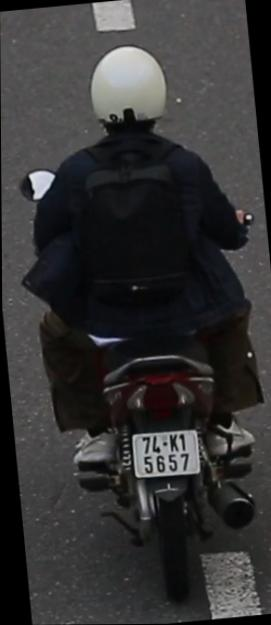LP: (122, 420, 207, 494)
helmet: (82, 36, 172, 143)
